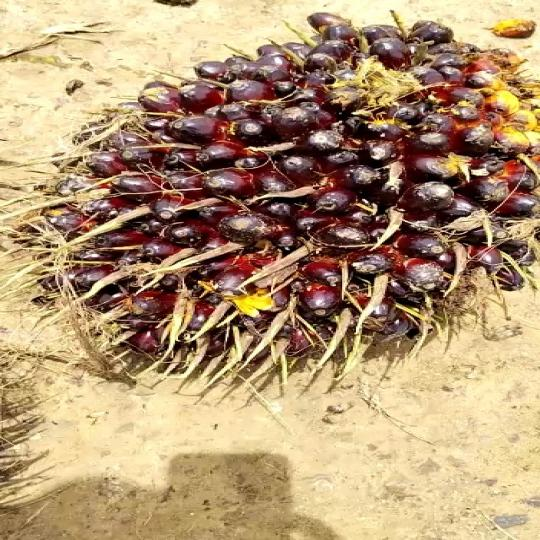mentah: (35, 6, 540, 414)
